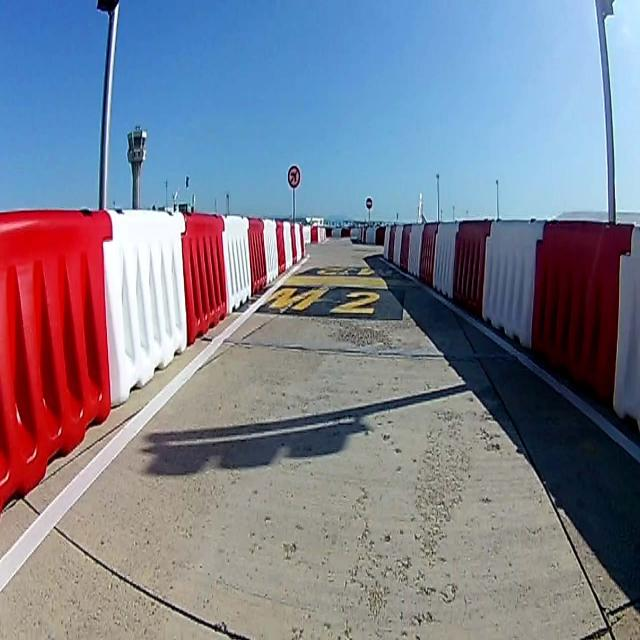soladonulmez: (287, 164, 301, 188)
